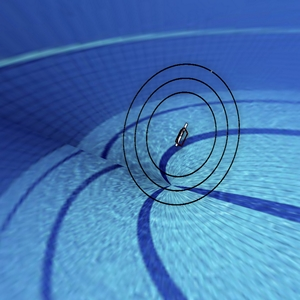circle: (117, 56, 249, 211)
submarine: (170, 117, 195, 160)
